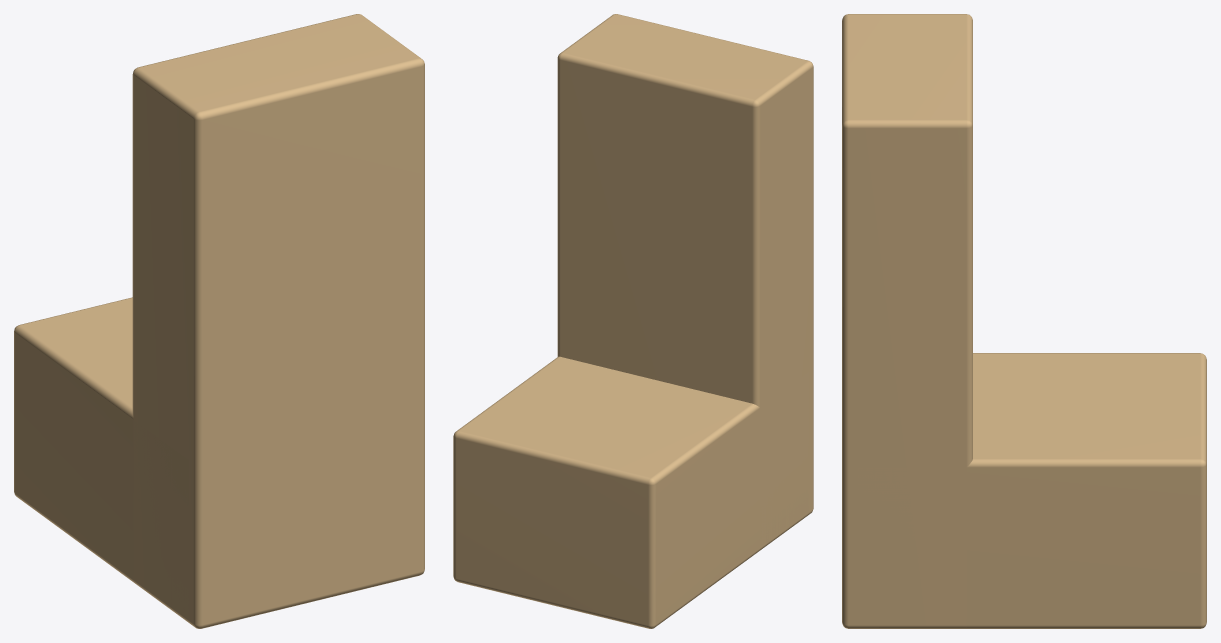
Rendered from knight.glb.
The picture shows the model from 3 angles, left to right: view 1: azimuth 30°, elevation 25°; view 2: azimuth 150°, elevation 25°; view 3: azimuth 270°, elevation 25°; orthographic projection. The views are drawn at different scales.
Parts seen in each view (by area): view 1: Bauhaus-inspired knight.001; view 2: Bauhaus-inspired knight.001; view 3: Bauhaus-inspired knight.001.
Part boxes in pixels (x1,y1,x2,y2): Bauhaus-inspired knight.001: [14, 14, 424, 628]; Bauhaus-inspired knight.001: [453, 14, 813, 628]; Bauhaus-inspired knight.001: [842, 14, 1206, 628].
Size of the model in its own units: 0.028 by 0.06 by 0.039.
